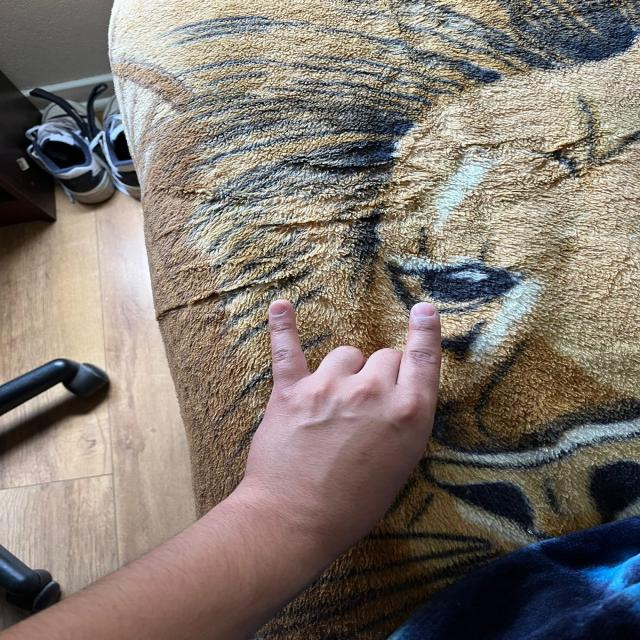U: (247, 290, 452, 512)
